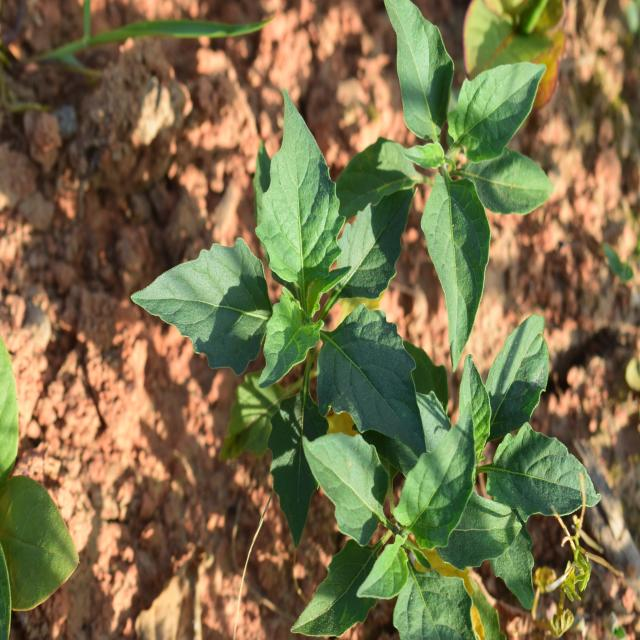Black_nightshade: (144, 143, 416, 457), (342, 361, 572, 607), (388, 8, 536, 342)
